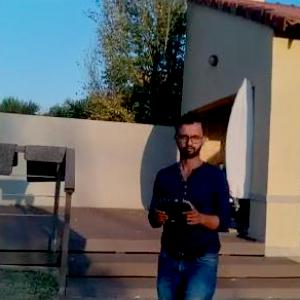follow: (142, 108, 234, 299)
